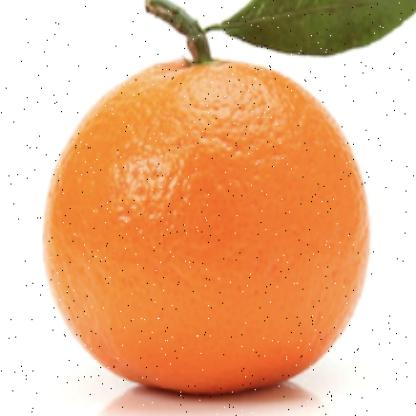fresh: (45, 35, 368, 391)
